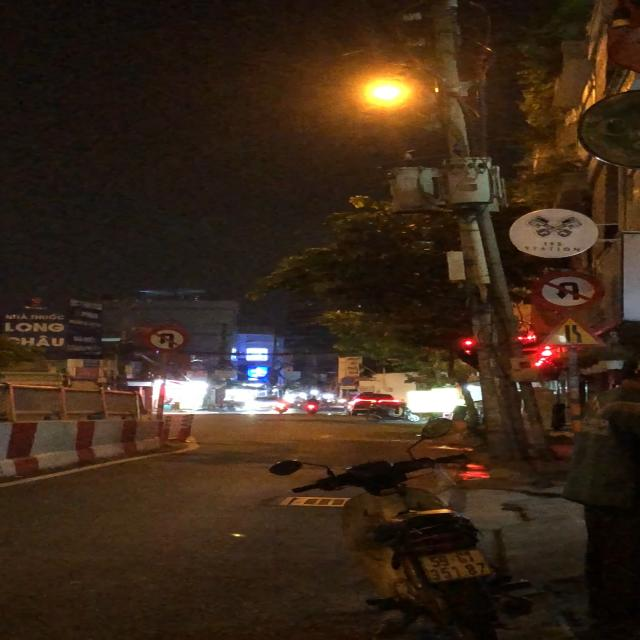Bien bao cam quay dau xe: (531, 267, 608, 310), (142, 322, 192, 353)
Bien bao duong bi thu hep: (532, 314, 610, 351)
